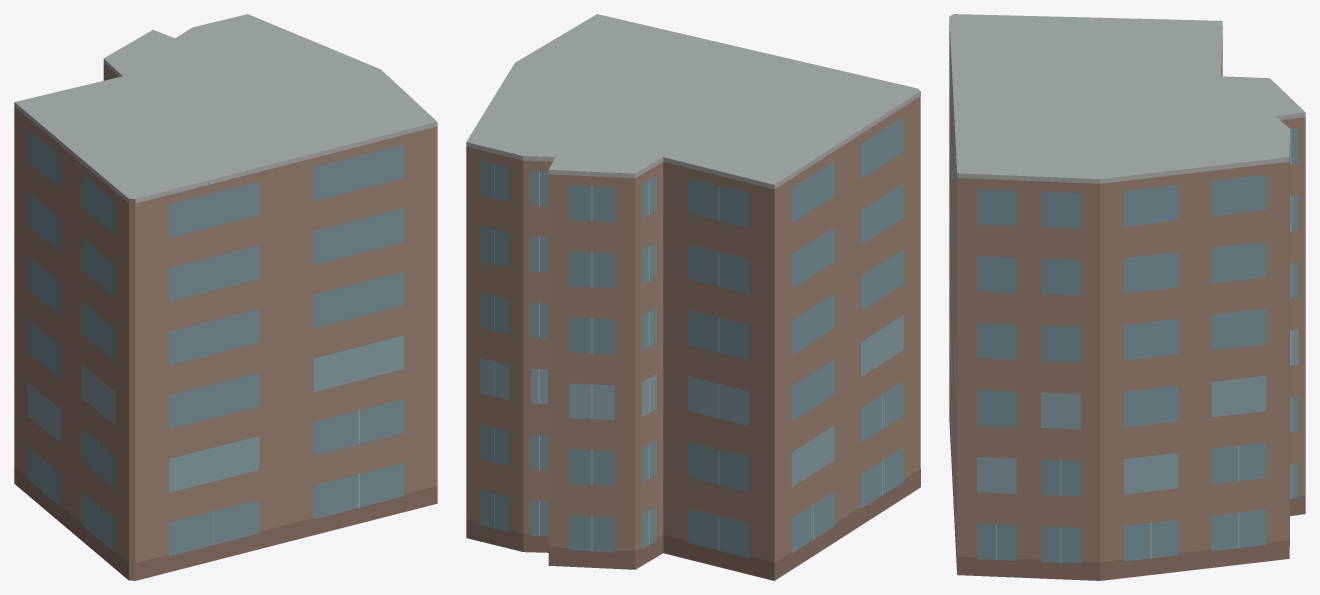
File: survey-upis-32695143.glb
3 views of the same model, side by side, from view 1: azimuth 30°, elevation 25°; view 2: azimuth 150°, elevation 25°; view 3: azimuth 270°, elevation 25° (orthographic). The views are drawn at different scales.
Visible parts, largest first — view 1: survey-upis-32695143.tmp; view 2: survey-upis-32695143.tmp; view 3: survey-upis-32695143.tmp.
Boxes of the visible parts, x1,y1,x2,y2 form: survey-upis-32695143.tmp: [14, 14, 437, 580]; survey-upis-32695143.tmp: [466, 14, 920, 580]; survey-upis-32695143.tmp: [949, 14, 1305, 580].
Size of the model in its own units: 18.75 by 21.25 by 17.09.
